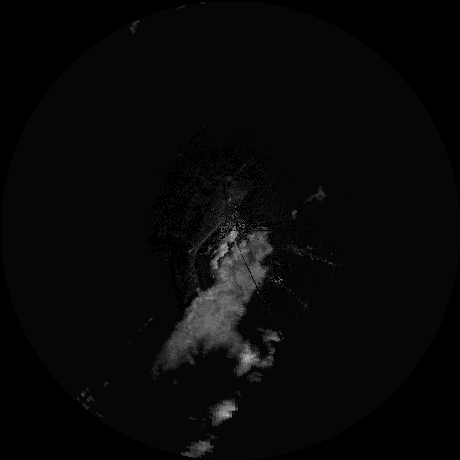frontgust: (188, 221, 223, 291)
